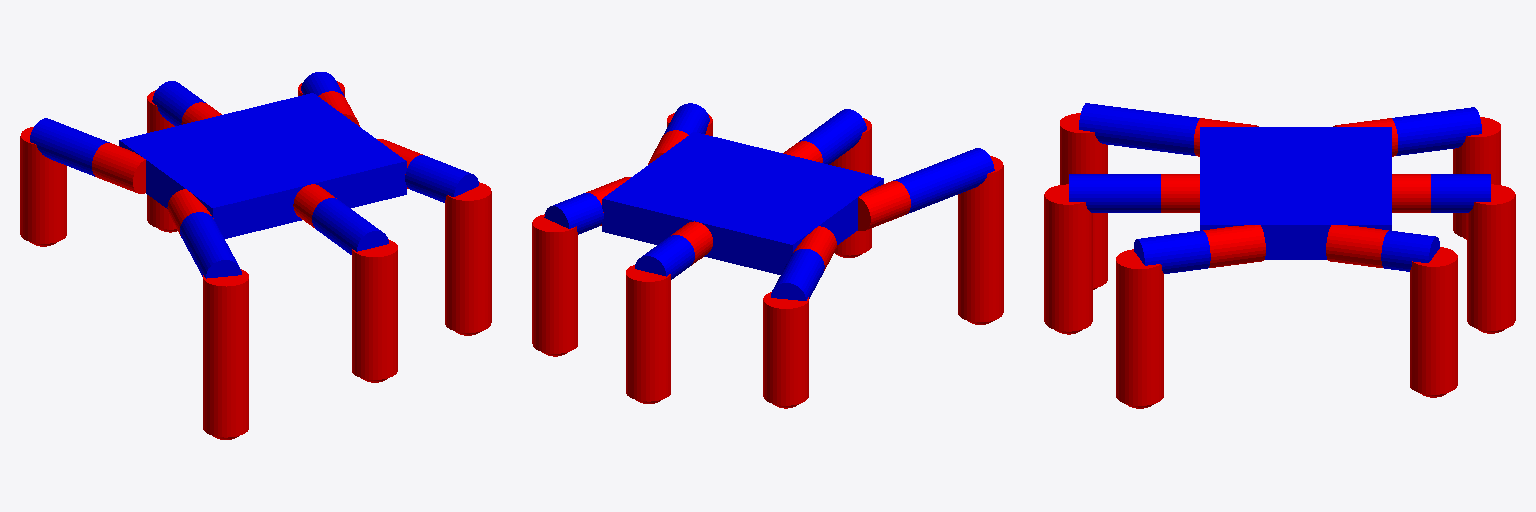
--- What the picture shows (computed from the rendered views, not written in the file) ---
The picture shows the robot from 3 angles, left to right: view 1: azimuth 30°, elevation 25°; view 2: azimuth 150°, elevation 25°; view 3: azimuth 270°, elevation 25°; orthographic projection.
Robot: pexod — 19 links, 18 joints (18 revolute); root link base_link; default pose: all joints at 0.
Visible links, largest first — view 1: base_link, leg_5_3, leg_3_3, leg_4_3, leg_0_3, leg_5_2, leg_4_2, leg_0_2, leg_3_2, leg_0_1, leg_1_2, leg_1_3 (+3 smaller); view 2: base_link, leg_5_3, leg_2_3, leg_1_3, leg_0_3, leg_5_2, leg_4_2, leg_5_1, leg_0_2, leg_4_3, leg_1_2, leg_2_2 (+3 smaller); view 3: base_link, leg_3_3, leg_4_3, leg_2_3, leg_1_3, leg_5_2, leg_5_3, leg_4_2, leg_0_2, leg_3_2, leg_0_3, leg_1_2 (+5 smaller).
Boxes of the visible links, x1,y1,x2,y2 form: base_link: (119,93,406,238); leg_5_3: (203,269,248,439); leg_3_3: (445,182,491,335); leg_4_3: (352,239,397,382); leg_0_3: (20,127,66,246); leg_5_2: (180,212,241,278); leg_4_2: (312,198,388,254); leg_0_2: (30,118,109,176); leg_3_2: (405,155,478,202); leg_0_1: (92,143,145,193); leg_1_2: (152,81,205,125); leg_1_3: (147,90,177,232); base_link: (602,132,883,274); leg_5_3: (958,156,1003,324); leg_2_3: (532,214,577,356); leg_1_3: (626,265,670,403); leg_0_3: (763,292,808,408); leg_5_2: (893,148,994,214); leg_4_2: (799,109,866,164); leg_5_1: (858,181,910,230); leg_0_2: (771,249,824,300); leg_4_3: (829,118,871,257); leg_1_2: (635,235,694,279); leg_2_2: (544,193,603,234); base_link: (1200,127,1391,259); leg_3_3: (1116,249,1163,408); leg_4_3: (1044,184,1092,334); leg_2_3: (1410,247,1457,397); leg_1_3: (1467,184,1515,333); leg_5_2: (1079,103,1199,155); leg_5_3: (1060,113,1107,289); leg_4_2: (1069,174,1160,212); leg_0_2: (1392,107,1481,155); leg_3_2: (1134,230,1210,273); leg_0_3: (1453,117,1500,239); leg_1_2: (1431,174,1490,212).
Bounding box of the posed robot: 0.3831 × 0.4882 × 0.2111 m (x, y, z).
Geometry: primitives only (box / cylinder / sphere), no mesh files.

The robot description file, URDF, robot "pexod":
<?xml version="1.0" ?>
<!-- =================================================================================== -->
<!-- |    This document was autogenerated by xacro from pexod.xacro                    | -->
<!-- |    EDITING THIS FILE BY HAND IS NOT RECOMMENDED                                 | -->
<!-- =================================================================================== -->
<robot name="pexod" xmlns:xacro="http://www.ros.org/wiki/xacro">
  <!-- <xacro:include filename="$(find pexod_description)/urdf/pexod_control.xacro" /> -->
  <!-- MATERIALS -->
  <material name="Blue">
    <color rgba="0 0 1 1"/>
  </material>
  <material name="Red">
    <color rgba="1 0 0 1"/>
  </material>
  <material name="Green">
    <color rgba="0 1 0 1"/>
  </material>
  <material name="Yellow">
    <color rgba="1 1 0 1"/>
  </material>
  <material name="LightGrey">
    <color rgba="0.6 0.6 0.6 1.0"/>
  </material>
  <!-- END OF MATERIALS -->
  <!-- XACRO MACROS FOR VISUALS AND COLLISIONS -->
  <!-- END OF XACRO MACROS -->
  <!-- TORSO -->
  <link name="base_link">
    <visual>
      <origin rpy="0 0 0" xyz="0 0 0"/>
      <geometry>
        <box size="0.24 0.2 0.04"/>
      </geometry>
      <material name="Blue"/>
    </visual>
    <collision>
      <origin rpy="0 0 0" xyz="0 0 0"/>
      <geometry>
        <box size="0.24 0.2 0.04"/>
      </geometry>
    </collision>
    <inertial>
      <!-- CENTER OF MASS -->
      <origin rpy="0 0 0" xyz="0 0 0"/>
      <mass value="1.031"/>
      <!-- box inertia: 1/12*m(y^2+z^2), ... -->
      <inertia ixx="0.00357413333333" ixy="0" ixz="0" iyy="0.00508626666667" iyz="0" izz="0.00838546666667"/>
    </inertial>
  </link>
  <!-- XACRO MACRO FOR LEGS LINKS/JOINTS -->
  <!-- END OF LEG LINKS/JOINTS -->
  <joint name="body_leg_2" type="revolute">
    <parent link="base_link"/>
    <child link="leg_2_1"/>
    <limit effort="30.0" lower="-1.57079632679" upper="1.57079632679" velocity="7.0"/>
    <origin rpy="0 0 -0.3" xyz="0.11 0.04 0"/>
    <!-- <xacro:if value="${index == 5 or index == 4 or index == 3}">
                <axis xyz="0 0 1"/>
            </xacro:if>
            <xacro:if value="${index == 2 or index == 1 or index == 0}"> -->
    <axis xyz="0 0 1"/>
    <!-- </xacro:if> -->
    <dynamics damping="0.0"/>
  </joint>
  <link name="leg_2_1">
    <visual>
      <origin rpy="1.57079632679 0 0" xyz="0.01 0.03 0"/>
      <geometry>
        <cylinder length="0.06" radius="0.02"/>
      </geometry>
      <material name="Red"/>
    </visual>
    <collision>
      <origin rpy="1.57079632679 0 0" xyz="0.01 0.03 0"/>
      <geometry>
        <box size="0.02 0.02 0.06"/>
      </geometry>
    </collision>
    <inertial>
      <!-- CENTER OF MASS -->
      <origin rpy="1.57079632679 0 0" xyz="0.01 0.03 0"/>
      <mass value="0.02"/>
      <!-- box inertia: 1/12*m(y^2+z^2), ... -->
      <inertia ixx="6.66666666667e-06" ixy="0" ixz="0" iyy="6.66666666667e-06" iyz="0" izz="1.33333333333e-06"/>
    </inertial>
  </link>
  <joint name="leg_2_1_2" type="revolute">
    <parent link="leg_2_1"/>
    <child link="leg_2_2"/>
    <limit effort="30.0" lower="-0.78539816339" upper="0.78539816339" velocity="7.0"/>
    <origin rpy="0 0 0" xyz="0 0.06 0"/>
    <axis xyz="1 0 0"/>
    <dynamics damping="0.0"/>
  </joint>
  <link name="leg_2_2">
    <visual>
      <origin rpy="1.57079632679 0 0" xyz="0.01 0.0256311036548 0"/>
      <geometry>
        <cylinder length="0.0512622073097" radius="0.02"/>
      </geometry>
      <material name="Blue"/>
    </visual>
    <collision>
      <origin rpy="1.57079632679 0 0" xyz="0.01 0.0256311036548 0"/>
      <geometry>
        <box size="0.02 0.02 0.0512622073097"/>
      </geometry>
    </collision>
    <inertial>
      <!-- CENTER OF MASS -->
      <origin rpy="1.57079632679 0 0" xyz="0.01 0.0256311036548 0"/>
      <mass value="0.184"/>
      <!-- box inertia: 1/12*m(y^2+z^2), ... -->
      <inertia ixx="4.64264797734e-05" ixy="0" ixz="0" iyy="4.64264797734e-05" iyz="0" izz="1.22666666667e-05"/>
    </inertial>
  </link>
  <joint name="leg_2_2_3" type="revolute">
    <parent link="leg_2_2"/>
    <child link="leg_2_3"/>
    <limit effort="30.0" lower="-0.78539816339" upper="0.78539816339" velocity="7.0"/>
    <origin rpy="-1.57079632679 0 0" xyz="0 0.0512622073097 0"/>
    <axis xyz="-1 0 0"/>
    <dynamics damping="0.0"/>
  </joint>
  <link name="leg_2_3">
    <visual>
      <origin rpy="1.57079632679 0 0" xyz="0.0125 0.0731974450385 0"/>
      <geometry>
        <cylinder length="0.146394890077" radius="0.025"/>
      </geometry>
      <material name="Red"/>
    </visual>
    <visual>
      <origin rpy="1.57079632679 0 0" xyz="0.0125 0.133894890077 0"/>
      <geometry>
        <sphere radius="0.025"/>
      </geometry>
      <material name="Red"/>
    </visual>
    <collision>
      <origin rpy="1.57079632679 0 0" xyz="0.0125 0.0731974450385 0"/>
      <geometry>
        <box size="0.025 0.025 0.146394890077"/>
      </geometry>
    </collision>
    <collision>
      <origin rpy="1.57079632679 0 0" xyz="0.0125 0.133894890077 0"/>
      <geometry>
        <sphere radius="0.025"/>
      </geometry>
      <material name="Red"/>
    </collision>
    <inertial>
      <!-- CENTER OF MASS -->
      <origin rpy="1.57079632679 0 0" xyz="0.0125 0.0731974450385 0"/>
      <mass value="0.04"/>
      <!-- box inertia: 1/12*m(y^2+z^2), ... -->
      <inertia ixx="7.35215461355e-05" ixy="0" ixz="0" iyy="7.35215461355e-05" iyz="0" izz="4.16666666667e-06"/>
    </inertial>
  </link>
  <joint name="body_leg_3" type="revolute">
    <parent link="base_link"/>
    <child link="leg_3_1"/>
    <limit effort="30.0" lower="-1.57079632679" upper="1.57079632679" velocity="7.0"/>
    <origin rpy="0 0 0.3" xyz="0.11 -0.04 0"/>
    <!-- <xacro:if value="${index == 5 or index == 4 or index == 3}">
                <axis xyz="0 0 1"/>
            </xacro:if>
            <xacro:if value="${index == 2 or index == 1 or index == 0}"> -->
    <axis xyz="0 0 1"/>
    <!-- </xacro:if> -->
    <dynamics damping="0.0"/>
  </joint>
  <link name="leg_3_1">
    <visual>
      <origin rpy="1.57079632679 0 0" xyz="0.01 -0.03 0"/>
      <geometry>
        <cylinder length="0.06" radius="0.02"/>
      </geometry>
      <material name="Red"/>
    </visual>
    <collision>
      <origin rpy="1.57079632679 0 0" xyz="0.01 -0.03 0"/>
      <geometry>
        <box size="0.02 0.02 0.06"/>
      </geometry>
    </collision>
    <inertial>
      <!-- CENTER OF MASS -->
      <origin rpy="1.57079632679 0 0" xyz="0.01 -0.03 0"/>
      <mass value="0.02"/>
      <!-- box inertia: 1/12*m(y^2+z^2), ... -->
      <inertia ixx="6.66666666667e-06" ixy="0" ixz="0" iyy="6.66666666667e-06" iyz="0" izz="1.33333333333e-06"/>
    </inertial>
  </link>
  <joint name="leg_3_1_2" type="revolute">
    <parent link="leg_3_1"/>
    <child link="leg_3_2"/>
    <limit effort="30.0" lower="-0.78539816339" upper="0.78539816339" velocity="7.0"/>
    <origin rpy="0 0 0" xyz="0 -0.06 0"/>
    <axis xyz="-1 0 0"/>
    <dynamics damping="0.0"/>
  </joint>
  <link name="leg_3_2">
    <visual>
      <origin rpy="1.57079632679 0 0" xyz="0.01 -0.0356214494468 0"/>
      <geometry>
        <cylinder length="0.0712428988936" radius="0.02"/>
      </geometry>
      <material name="Blue"/>
    </visual>
    <collision>
      <origin rpy="1.57079632679 0 0" xyz="0.01 -0.0356214494468 0"/>
      <geometry>
        <box size="0.02 0.02 0.0712428988936"/>
      </geometry>
    </collision>
    <inertial>
      <!-- CENTER OF MASS -->
      <origin rpy="1.57079632679 0 0" xyz="0.01 -0.0356214494468 0"/>
      <mass value="0.184"/>
      <!-- box inertia: 1/12*m(y^2+z^2), ... -->
      <inertia ixx="8.3958443189e-05" ixy="0" ixz="0" iyy="8.3958443189e-05" iyz="0" izz="1.22666666667e-05"/>
    </inertial>
  </link>
  <joint name="leg_3_2_3" type="revolute">
    <parent link="leg_3_2"/>
    <child link="leg_3_3"/>
    <limit effort="30.0" lower="-0.78539816339" upper="0.78539816339" velocity="7.0"/>
    <origin rpy="1.57079632679 0 0" xyz="0 -0.0712428988936 0"/>
    <axis xyz="1 0 0"/>
    <dynamics damping="0.0"/>
  </joint>
  <link name="leg_3_3">
    <visual>
      <origin rpy="1.57079632679 0 0" xyz="0.0125 -0.0781653776815 0"/>
      <geometry>
        <cylinder length="0.156330755363" radius="0.025"/>
      </geometry>
      <material name="Red"/>
    </visual>
    <visual>
      <origin rpy="1.57079632679 0 0" xyz="0.0125 -0.143830755363 0"/>
      <geometry>
        <sphere radius="0.025"/>
      </geometry>
      <material name="Red"/>
    </visual>
    <collision>
      <origin rpy="1.57079632679 0 0" xyz="0.0125 -0.0781653776815 0"/>
      <geometry>
        <box size="0.025 0.025 0.156330755363"/>
      </geometry>
    </collision>
    <collision>
      <origin rpy="1.57079632679 0 0" xyz="0.0125 -0.143830755363 0"/>
      <geometry>
        <sphere radius="0.025"/>
      </geometry>
      <material name="Red"/>
    </collision>
    <inertial>
      <!-- CENTER OF MASS -->
      <origin rpy="1.57079632679 0 0" xyz="0.0125 -0.0781653776815 0"/>
      <mass value="0.04"/>
      <!-- box inertia: 1/12*m(y^2+z^2), ... -->
      <inertia ixx="8.35476835746e-05" ixy="0" ixz="0" iyy="8.35476835746e-05" iyz="0" izz="4.16666666667e-06"/>
    </inertial>
  </link>
  <joint name="body_leg_0" type="revolute">
    <parent link="base_link"/>
    <child link="leg_0_1"/>
    <limit effort="30.0" lower="-1.57079632679" upper="1.57079632679" velocity="7.0"/>
    <origin rpy="0 0 0.3" xyz="-0.13 0.04 0"/>
    <!-- <xacro:if value="${index == 5 or index == 4 or index == 3}">
                <axis xyz="0 0 1"/>
            </xacro:if>
            <xacro:if value="${index == 2 or index == 1 or index == 0}"> -->
    <axis xyz="0 0 1"/>
    <!-- </xacro:if> -->
    <dynamics damping="0.0"/>
  </joint>
  <link name="leg_0_1">
    <visual>
      <origin rpy="1.57079632679 0 0" xyz="0.01 0.03 0"/>
      <geometry>
        <cylinder length="0.06" radius="0.02"/>
      </geometry>
      <material name="Red"/>
    </visual>
    <collision>
      <origin rpy="1.57079632679 0 0" xyz="0.01 0.03 0"/>
      <geometry>
        <box size="0.02 0.02 0.06"/>
      </geometry>
    </collision>
    <inertial>
      <!-- CENTER OF MASS -->
      <origin rpy="1.57079632679 0 0" xyz="0.01 0.03 0"/>
      <mass value="0.02"/>
      <!-- box inertia: 1/12*m(y^2+z^2), ... -->
      <inertia ixx="6.66666666667e-06" ixy="0" ixz="0" iyy="6.66666666667e-06" iyz="0" izz="1.33333333333e-06"/>
    </inertial>
  </link>
  <joint name="leg_0_1_2" type="revolute">
    <parent link="leg_0_1"/>
    <child link="leg_0_2"/>
    <limit effort="30.0" lower="-0.78539816339" upper="0.78539816339" velocity="7.0"/>
    <origin rpy="0 0 0" xyz="0 0.06 0"/>
    <axis xyz="1 0 0"/>
    <dynamics damping="0.0"/>
  </joint>
  <link name="leg_0_2">
    <visual>
      <origin rpy="1.57079632679 0 0" xyz="0.01 0.0454850526801 0"/>
      <geometry>
        <cylinder length="0.0909701053602" radius="0.02"/>
      </geometry>
      <material name="Blue"/>
    </visual>
    <collision>
      <origin rpy="1.57079632679 0 0" xyz="0.01 0.0454850526801 0"/>
      <geometry>
        <box size="0.02 0.02 0.0909701053602"/>
      </geometry>
    </collision>
    <inertial>
      <!-- CENTER OF MASS -->
      <origin rpy="1.57079632679 0 0" xyz="0.01 0.0454850526801 0"/>
      <mass value="0.184"/>
      <!-- box inertia: 1/12*m(y^2+z^2), ... -->
      <inertia ixx="0.000133025254395" ixy="0" ixz="0" iyy="0.000133025254395" iyz="0" izz="1.22666666667e-05"/>
    </inertial>
  </link>
  <joint name="leg_0_2_3" type="revolute">
    <parent link="leg_0_2"/>
    <child link="leg_0_3"/>
    <limit effort="30.0" lower="-0.78539816339" upper="0.78539816339" velocity="7.0"/>
    <origin rpy="-1.57079632679 0 0" xyz="0 0.0909701053602 0"/>
    <axis xyz="-1 0 0"/>
    <dynamics damping="0.0"/>
  </joint>
  <link name="leg_0_3">
    <visual>
      <origin rpy="1.57079632679 0 0" xyz="0.0125 0.058358727319 0"/>
      <geometry>
        <cylinder length="0.116717454638" radius="0.025"/>
      </geometry>
      <material name="Red"/>
    </visual>
    <visual>
      <origin rpy="1.57079632679 0 0" xyz="0.0125 0.104217454638 0"/>
      <geometry>
        <sphere radius="0.025"/>
      </geometry>
      <material name="Red"/>
    </visual>
    <collision>
      <origin rpy="1.57079632679 0 0" xyz="0.0125 0.058358727319 0"/>
      <geometry>
        <box size="0.025 0.025 0.116717454638"/>
      </geometry>
    </collision>
    <collision>
      <origin rpy="1.57079632679 0 0" xyz="0.0125 0.104217454638 0"/>
      <geometry>
        <sphere radius="0.025"/>
      </geometry>
      <material name="Red"/>
    </collision>
    <inertial>
      <!-- CENTER OF MASS -->
      <origin rpy="1.57079632679 0 0" xyz="0.0125 0.058358727319 0"/>
      <mass value="0.04"/>
      <!-- box inertia: 1/12*m(y^2+z^2), ... -->
      <inertia ixx="4.74932140572e-05" ixy="0" ixz="0" iyy="4.74932140572e-05" iyz="0" izz="4.16666666667e-06"/>
    </inertial>
  </link>
  <joint name="body_leg_5" type="revolute">
    <parent link="base_link"/>
    <child link="leg_5_1"/>
    <limit effort="30.0" lower="-1.57079632679" upper="1.57079632679" velocity="7.0"/>
    <origin rpy="0 0 -0.3" xyz="-0.13 -0.04 0"/>
    <!-- <xacro:if value="${index == 5 or index == 4 or index == 3}">
                <axis xyz="0 0 1"/>
            </xacro:if>
            <xacro:if value="${index == 2 or index == 1 or index == 0}"> -->
    <axis xyz="0 0 1"/>
    <!-- </xacro:if> -->
    <dynamics damping="0.0"/>
  </joint>
  <link name="leg_5_1">
    <visual>
      <origin rpy="1.57079632679 0 0" xyz="0.01 -0.03 0"/>
      <geometry>
        <cylinder length="0.06" radius="0.02"/>
      </geometry>
      <material name="Red"/>
    </visual>
    <collision>
      <origin rpy="1.57079632679 0 0" xyz="0.01 -0.03 0"/>
      <geometry>
        <box size="0.02 0.02 0.06"/>
      </geometry>
    </collision>
    <inertial>
      <!-- CENTER OF MASS -->
      <origin rpy="1.57079632679 0 0" xyz="0.01 -0.03 0"/>
      <mass value="0.02"/>
      <!-- box inertia: 1/12*m(y^2+z^2), ... -->
      <inertia ixx="6.66666666667e-06" ixy="0" ixz="0" iyy="6.66666666667e-06" iyz="0" izz="1.33333333333e-06"/>
    </inertial>
  </link>
  <joint name="leg_5_1_2" type="revolute">
    <parent link="leg_5_1"/>
    <child link="leg_5_2"/>
    <limit effort="30.0" lower="-0.78539816339" upper="0.78539816339" velocity="7.0"/>
    <origin rpy="0 0 0" xyz="0 -0.06 0"/>
    <axis xyz="-1 0 0"/>
    <dynamics damping="0.0"/>
  </joint>
  <link name="leg_5_2">
    <visual>
      <origin rpy="1.57079632679 0 0" xyz="0.01 -0.062332090808 0"/>
      <geometry>
        <cylinder length="0.124664181616" radius="0.02"/>
      </geometry>
      <material name="Blue"/>
    </visual>
    <collision>
      <origin rpy="1.57079632679 0 0" xyz="0.01 -0.062332090808 0"/>
      <geometry>
        <box size="0.02 0.02 0.124664181616"/>
      </geometry>
    </collision>
    <inertial>
      <!-- CENTER OF MASS -->
      <origin rpy="1.57079632679 0 0" xyz="0.01 -0.062332090808 0"/>
      <mass value="0.184"/>
      <!-- box inertia: 1/12*m(y^2+z^2), ... -->
      <inertia ixx="0.000244431092062" ixy="0" ixz="0" iyy="0.000244431092062" iyz="0" izz="1.22666666667e-05"/>
    </inertial>
  </link>
  <joint name="leg_5_2_3" type="revolute">
    <parent link="leg_5_2"/>
    <child link="leg_5_3"/>
    <limit effort="30.0" lower="-0.78539816339" upper="0.78539816339" velocity="7.0"/>
    <origin rpy="1.57079632679 0 0" xyz="0 -0.124664181616 0"/>
    <axis xyz="1 0 0"/>
    <dynamics damping="0.0"/>
  </joint>
  <link name="leg_5_3">
    <visual>
      <origin rpy="1.57079632679 0 0" xyz="0.0125 -0.0893067460675 0"/>
      <geometry>
        <cylinder length="0.178613492135" radius="0.025"/>
      </geometry>
      <material name="Red"/>
    </visual>
    <visual>
      <origin rpy="1.57079632679 0 0" xyz="0.0125 -0.166113492135 0"/>
      <geometry>
        <sphere radius="0.025"/>
      </geometry>
      <material name="Red"/>
    </visual>
    <collision>
      <origin rpy="1.57079632679 0 0" xyz="0.0125 -0.0893067460675 0"/>
      <geometry>
        <box size="0.025 0.025 0.178613492135"/>
      </geometry>
    </collision>
    <collision>
      <origin rpy="1.57079632679 0 0" xyz="0.0125 -0.166113492135 0"/>
      <geometry>
        <sphere radius="0.025"/>
      </geometry>
      <material name="Red"/>
    </collision>
    <inertial>
      <!-- CENTER OF MASS -->
      <origin rpy="1.57079632679 0 0" xyz="0.0125 -0.0893067460675 0"/>
      <mass value="0.04"/>
      <!-- box inertia: 1/12*m(y^2+z^2), ... -->
      <inertia ixx="0.000108425931909" ixy="0" ixz="0" iyy="0.000108425931909" iyz="0" izz="4.16666666667e-06"/>
    </inertial>
  </link>
  <joint name="body_leg_1" type="revolute">
    <parent link="base_link"/>
    <child link="leg_1_1"/>
    <limit effort="30.0" lower="-1.57079632679" upper="1.57079632679" velocity="7.0"/>
    <origin rpy="0 0 0" xyz="-0.01 0.08 0"/>
    <!-- <xacro:if value="${index == 5 or index == 4 or index == 3}">
                <axis xyz="0 0 1"/>
            </xacro:if>
            <xacro:if value="${index == 2 or index == 1 or index == 0}"> -->
    <axis xyz="0 0 1"/>
    <!-- </xacro:if> -->
    <dynamics damping="0.0"/>
  </joint>
  <link name="leg_1_1">
    <visual>
      <origin rpy="1.57079632679 0 0" xyz="0.01 0.03 0"/>
      <geometry>
        <cylinder length="0.06" radius="0.02"/>
      </geometry>
      <material name="Red"/>
    </visual>
    <collision>
      <origin rpy="1.57079632679 0 0" xyz="0.01 0.03 0"/>
      <geometry>
        <box size="0.02 0.02 0.06"/>
      </geometry>
    </collision>
    <inertial>
      <!-- CENTER OF MASS -->
      <origin rpy="1.57079632679 0 0" xyz="0.01 0.03 0"/>
      <mass value="0.02"/>
      <!-- box inertia: 1/12*m(y^2+z^2), ... -->
      <inertia ixx="6.66666666667e-06" ixy="0" ixz="0" iyy="6.66666666667e-06" iyz="0" izz="1.33333333333e-06"/>
    </inertial>
  </link>
  <joint name="leg_1_1_2" type="revolute">
    <parent link="leg_1_1"/>
    <child link="leg_1_2"/>
    <limit effort="30.0" lower="-0.78539816339" upper="0.78539816339" velocity="7.0"/>
    <origin rpy="0 0 0" xyz="0 0.06 0"/>
    <axis xyz="1 0 0"/>
    <dynamics damping="0.0"/>
  </joint>
  <link name="leg_1_2">
    <visual>
      <origin rpy="1.57079632679 0 0" xyz="0.01 0.0312519434865 0"/>
      <geometry>
        <cylinder length="0.0625038869729" radius="0.02"/>
      </geometry>
      <material name="Blue"/>
    </visual>
    <collision>
      <origin rpy="1.57079632679 0 0" xyz="0.01 0.0312519434865 0"/>
      <geometry>
        <box size="0.02 0.02 0.0625038869729"/>
      </geometry>
    </collision>
    <inertial>
      <!-- CENTER OF MASS -->
      <origin rpy="1.57079632679 0 0" xyz="0.01 0.0312519434865 0"/>
      <mass value="0.184"/>
      <!-- box inertia: 1/12*m(y^2+z^2), ... -->
      <inertia ixx="6.60366169297e-05" ixy="0" ixz="0" iyy="6.60366169297e-05" iyz="0" izz="1.22666666667e-05"/>
    </inertial>
  </link>
  <joint name="leg_1_2_3" type="revolute">
    <parent link="leg_1_2"/>
    <child link="leg_1_3"/>
    <limit effort="30.0" lower="-0.78539816339" upper="0.78539816339" velocity="7.0"/>
    <origin rpy="-1.57079632679 0 0" xyz="0 0.0625038869729 0"/>
    <axis xyz="-1 0 0"/>
    <dynamics damping="0.0"/>
  </joint>
  <link name="leg_1_3">
    <visual>
      <origin rpy="1.57079632679 0 0" xyz="0.0125 0.072122005545 0"/>
      <geometry>
        <cylinder length="0.14424401109" radius="0.025"/>
      </geometry>
      <material name="Red"/>
    </visual>
    <visual>
      <origin rpy="1.57079632679 0 0" xyz="0.0125 0.13174401109 0"/>
      <geometry>
        <sphere radius="0.025"/>
      </geometry>
      <material name="Red"/>
    </visual>
    <collision>
      <origin rpy="1.57079632679 0 0" xyz="0.0125 0.072122005545 0"/>
      <geometry>
        <box size="0.025 0.025 0.14424401109"/>
      </geometry>
    </collision>
    <collision>
      <origin rpy="1.57079632679 0 0" xyz="0.0125 0.13174401109 0"/>
      <geometry>
        <sphere radius="0.025"/>
      </geometry>
      <material name="Red"/>
    </collision>
    <inertial>
      <!-- CENTER OF MASS -->
      <origin rpy="1.57079632679 0 0" xyz="0.0125 0.072122005545 0"/>
      <mass value="0.04"/>
      <!-- box inertia: 1/12*m(y^2+z^2), ... -->
      <inertia ixx="7.14377824511e-05" ixy="0" ixz="0" iyy="7.14377824511e-05" iyz="0" izz="4.16666666667e-06"/>
    </inertial>
  </link>
  <joint name="body_leg_4" type="revolute">
    <parent link="base_link"/>
    <child link="leg_4_1"/>
    <limit effort="30.0" lower="-1.57079632679" upper="1.57079632679" velocity="7.0"/>
    <origin rpy="0 0 0" xyz="-0.01 -0.08 0"/>
    <!-- <xacro:if value="${index == 5 or index == 4 or index == 3}">
                <axis xyz="0 0 1"/>
            </xacro:if>
            <xacro:if value="${index == 2 or index == 1 or index == 0}"> -->
    <axis xyz="0 0 1"/>
    <!-- </xacro:if> -->
    <dynamics damping="0.0"/>
  </joint>
  <link name="leg_4_1">
    <visual>
      <origin rpy="1.57079632679 0 0" xyz="0.01 -0.03 0"/>
      <geometry>
        <cylinder length="0.06" radius="0.02"/>
      </geometry>
      <material name="Red"/>
    </visual>
    <collision>
      <origin rpy="1.57079632679 0 0" xyz="0.01 -0.03 0"/>
      <geometry>
        <box size="0.02 0.02 0.06"/>
      </geometry>
    </collision>
    <inertial>
      <!-- CENTER OF MASS -->
      <origin rpy="1.57079632679 0 0" xyz="0.01 -0.03 0"/>
      <mass value="0.02"/>
      <!-- box inertia: 1/12*m(y^2+z^2), ... -->
      <inertia ixx="6.66666666667e-06" ixy="0" ixz="0" iyy="6.66666666667e-06" iyz="0" izz="1.33333333333e-06"/>
    </inertial>
  </link>
  <joint name="leg_4_1_2" type="revolute">
    <parent link="leg_4_1"/>
    <child link="leg_4_2"/>
    <limit effort="30.0" lower="-0.78539816339" upper="0.78539816339" velocity="7.0"/>
    <origin rpy="0 0 0" xyz="0 -0.06 0"/>
    <axis xyz="-1 0 0"/>
    <dynamics damping="0.0"/>
  </joint>
  <link name="leg_4_2">
    <visual>
      <origin rpy="1.57079632679 0 0" xyz="0.01 -0.0478374131039 0"/>
      <geometry>
        <cylinder length="0.0956748262079" radius="0.02"/>
      </geometry>
      <material name="Blue"/>
    </visual>
    <collision>
      <origin rpy="1.57079632679 0 0" xyz="0.01 -0.0478374131039 0"/>
      <geometry>
        <box size="0.02 0.02 0.0956748262079"/>
      </geometry>
    </collision>
    <inertial>
      <!-- CENTER OF MASS -->
      <origin rpy="1.57079632679 0 0" xyz="0.01 -0.0478374131039 0"/>
      <mass value="0.184"/>
      <!-- box inertia: 1/12*m(y^2+z^2), ... -->
      <inertia ixx="0.000146489643005" ixy="0" ixz="0" iyy="0.000146489643005" iyz="0" izz="1.22666666667e-05"/>
    </inertial>
  </link>
  <joint name="leg_4_2_3" type="revolute">
    <parent link="leg_4_2"/>
    <child link="leg_4_3"/>
    <limit effort="30.0" lower="-0.78539816339" upper="0.78539816339" velocity="7.0"/>
    <origin rpy="1.57079632679 0 0" xyz="0 -0.0956748262079 0"/>
    <axis xyz="1 0 0"/>
    <dynamics damping="0.0"/>
  </joint>
  <link name="leg_4_3">
    <visual>
      <origin rpy="1.57079632679 0 0" xyz="0.0125 -0.072534320728 0"/>
      <geometry>
        <cylinder length="0.145068641456" radius="0.025"/>
      </geometry>
      <material name="Red"/>
    </visual>
    <visual>
      <origin rpy="1.57079632679 0 0" xyz="0.0125 -0.132568641456 0"/>
      <geometry>
        <sphere radius="0.025"/>
      </geometry>
      <material name="Red"/>
    </visual>
    <collision>
      <origin rpy="1.57079632679 0 0" xyz="0.0125 -0.072534320728 0"/>
      <geometry>
        <box size="0.025 0.025 0.145068641456"/>
      </geometry>
    </collision>
    <collision>
      <origin rpy="1.57079632679 0 0" xyz="0.0125 -0.132568641456 0"/>
      <geometry>
        <sphere radius="0.025"/>
      </geometry>
      <material name="Red"/>
    </collision>
    <inertial>
      <!-- CENTER OF MASS -->
      <origin rpy="1.57079632679 0 0" xyz="0.0125 -0.072534320728 0"/>
      <mass value="0.04"/>
      <!-- box inertia: 1/12*m(y^2+z^2), ... -->
      <inertia ixx="7.22330357796e-05" ixy="0" ixz="0" iyy="7.22330357796e-05" iyz="0" izz="4.16666666667e-06"/>
    </inertial>
  </link>
  <!-- END OF LEG LINKS/JOINTS -->
</robot>
